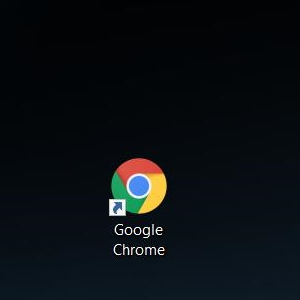chrome: (108, 157, 168, 216)
